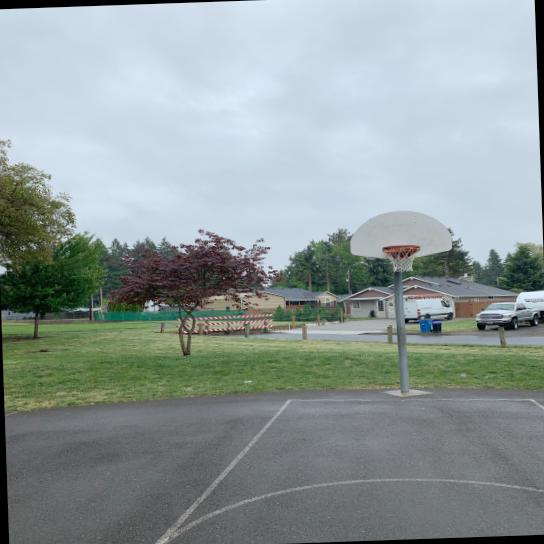basketball-hoop: (380, 244, 422, 273)
